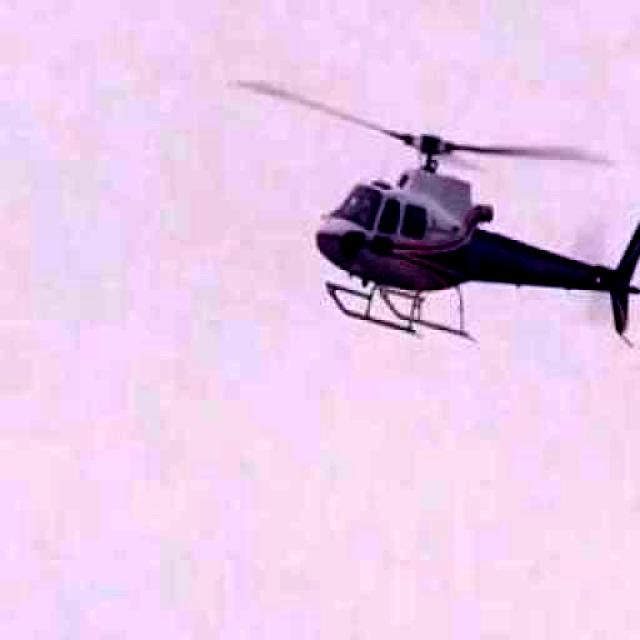drone: (204, 36, 640, 378)
